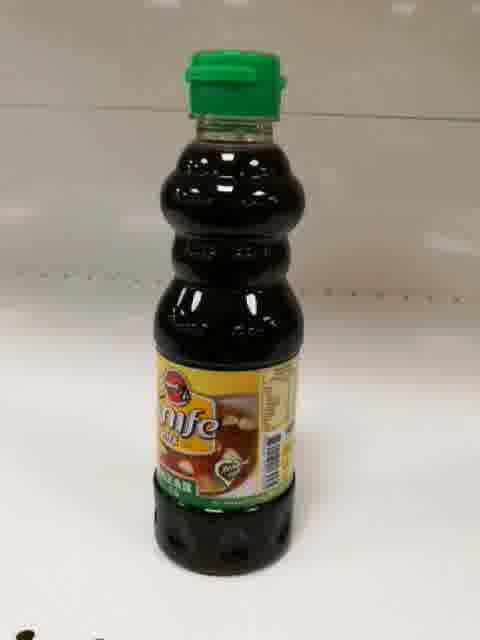cookingoil: (146, 44, 309, 580)
